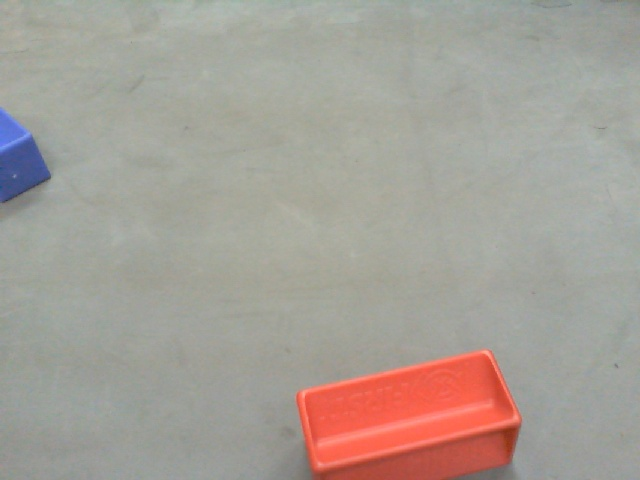BlueSample: (1, 105, 54, 209)
RedSample: (292, 344, 522, 480)
